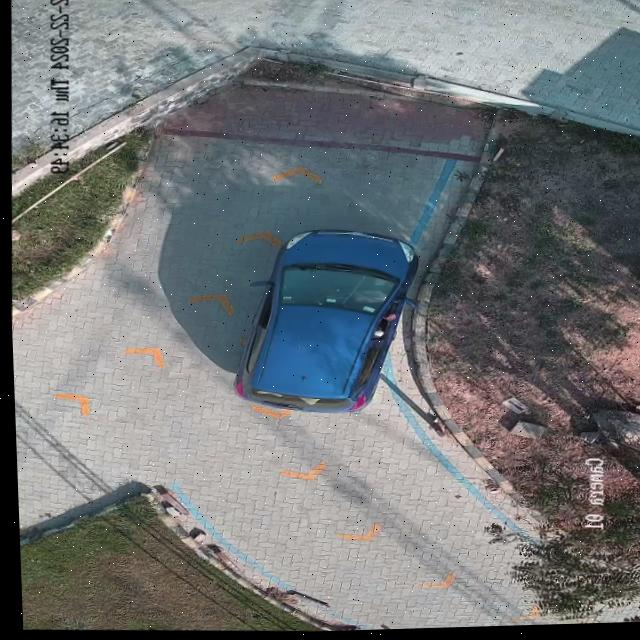car: (229, 230, 417, 414)
